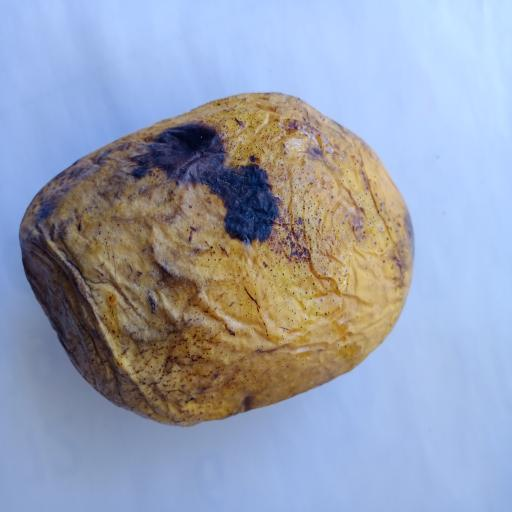mango-overripe: (13, 61, 421, 444)
